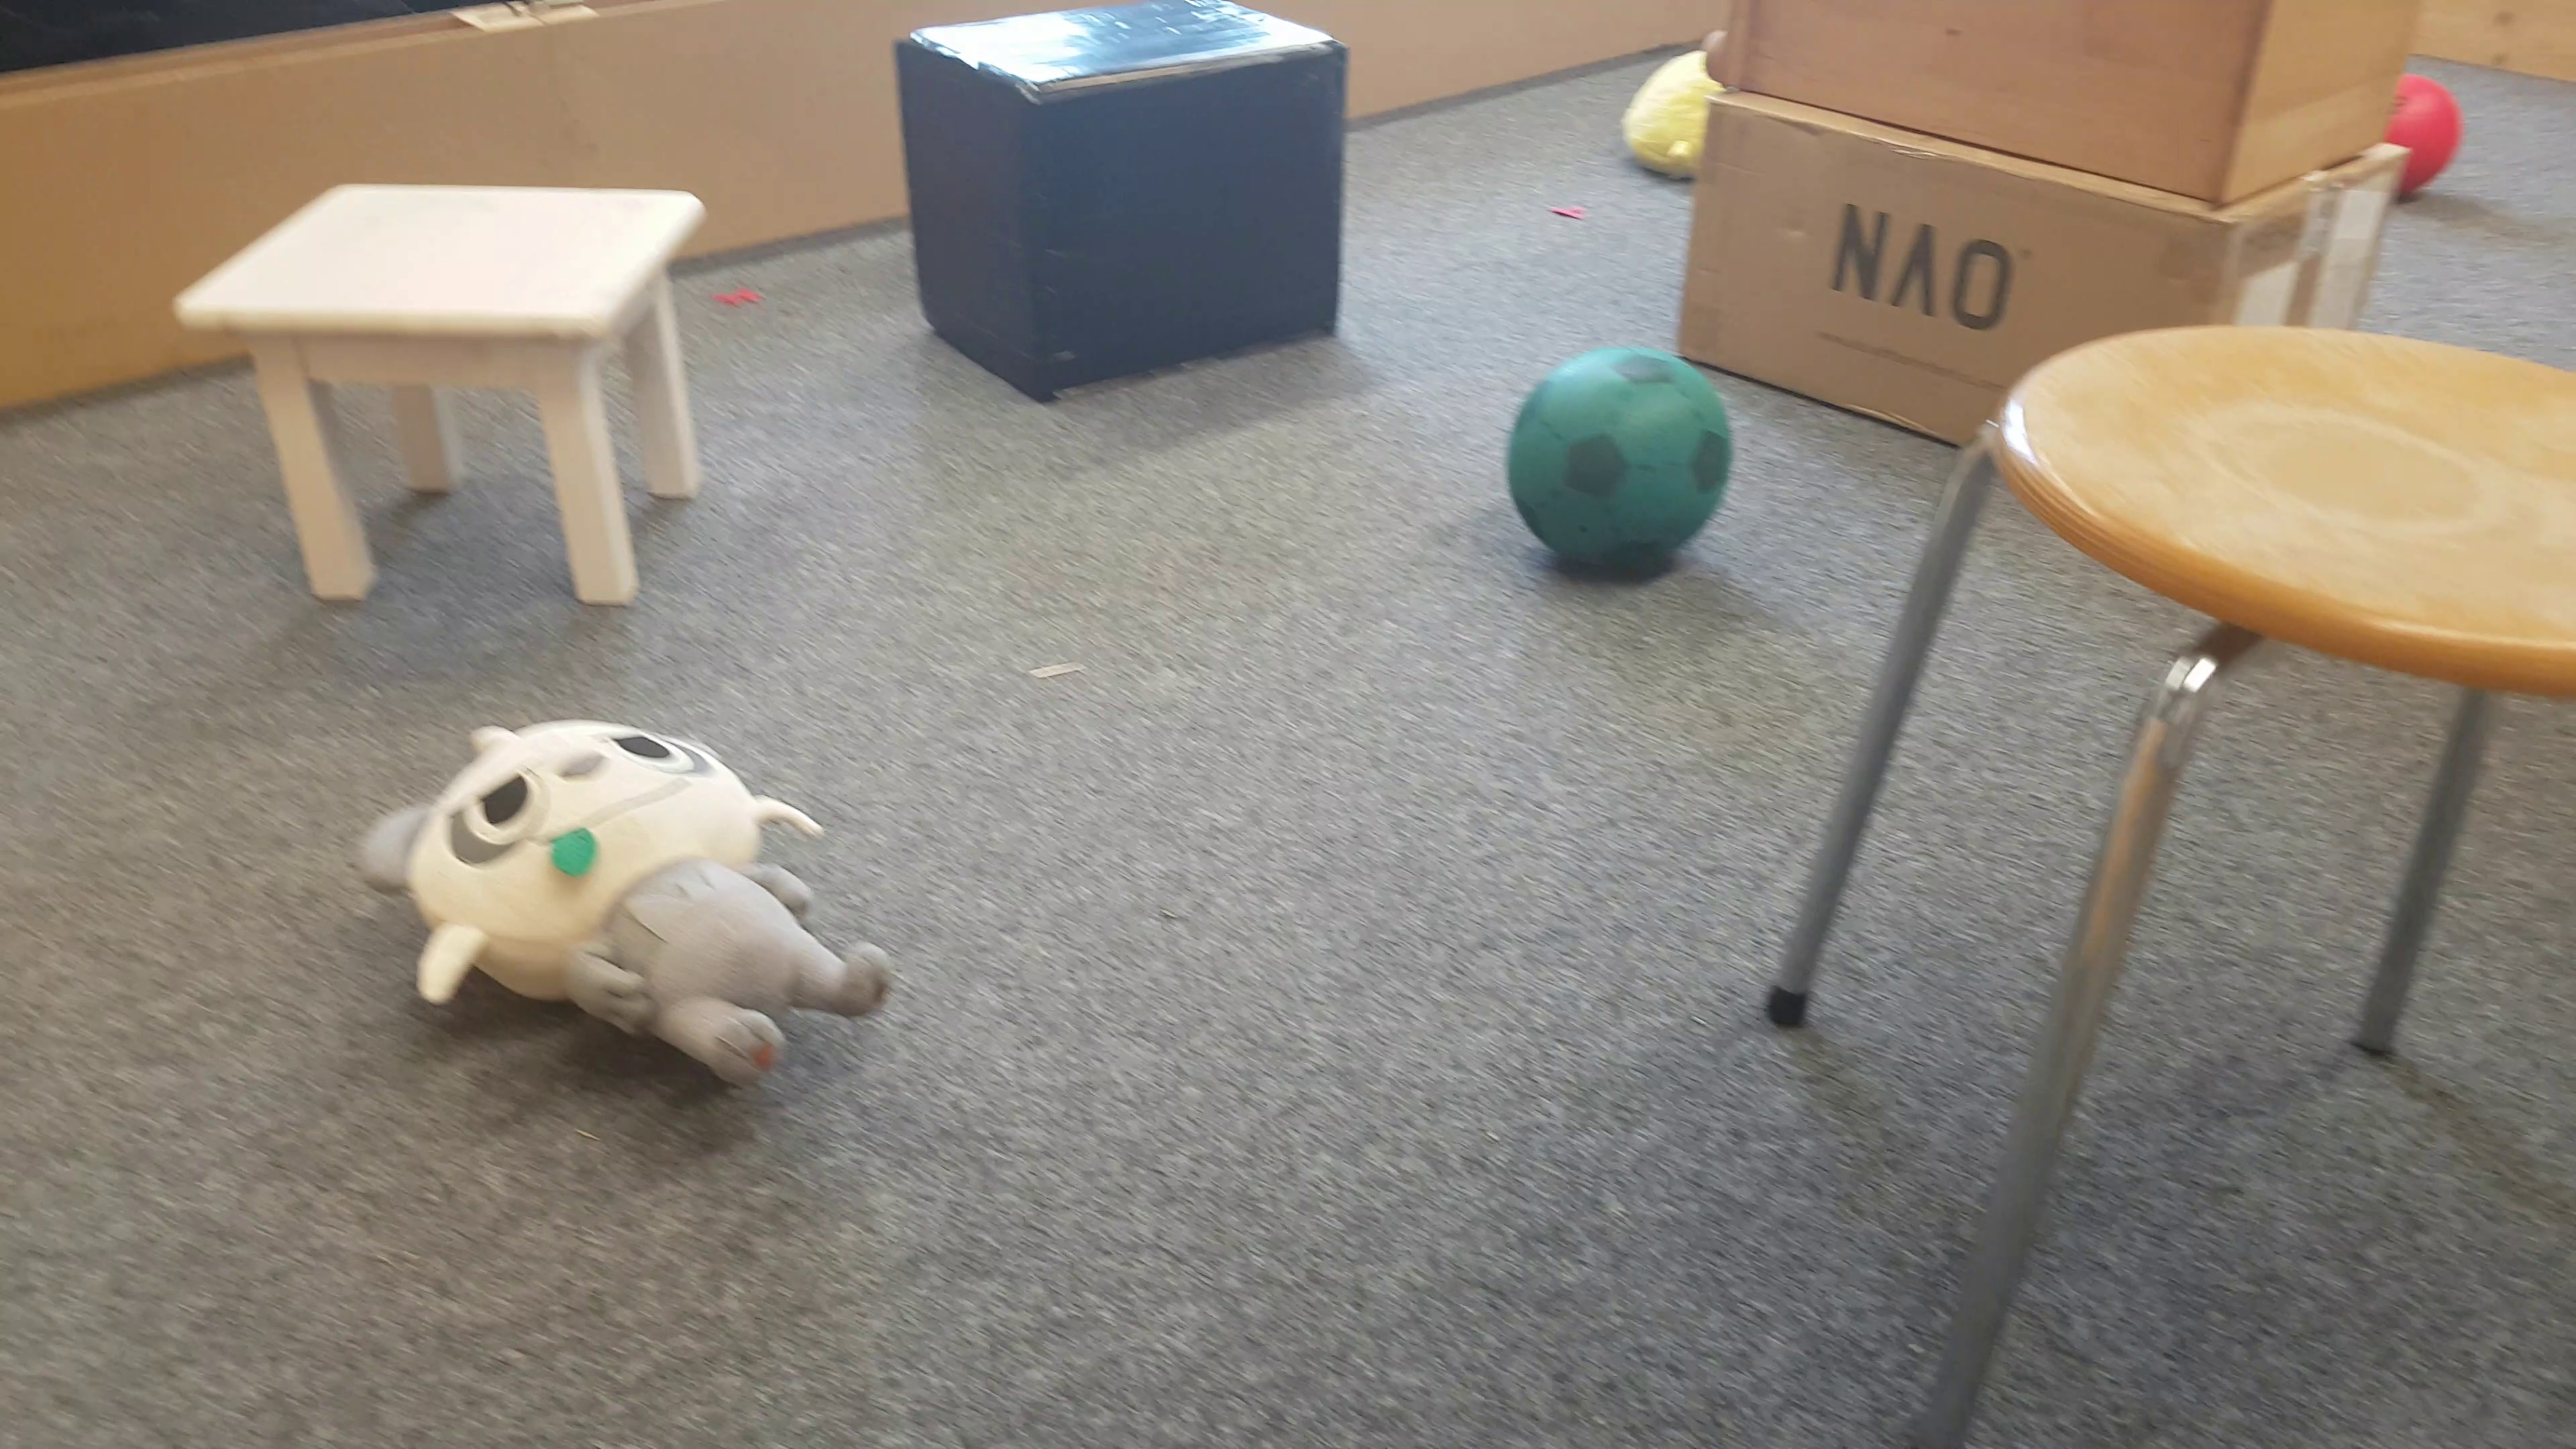grasp: (356, 715, 892, 1092), (1626, 58, 1697, 168)
kick: (1514, 352, 1727, 584), (2419, 80, 2465, 207)
